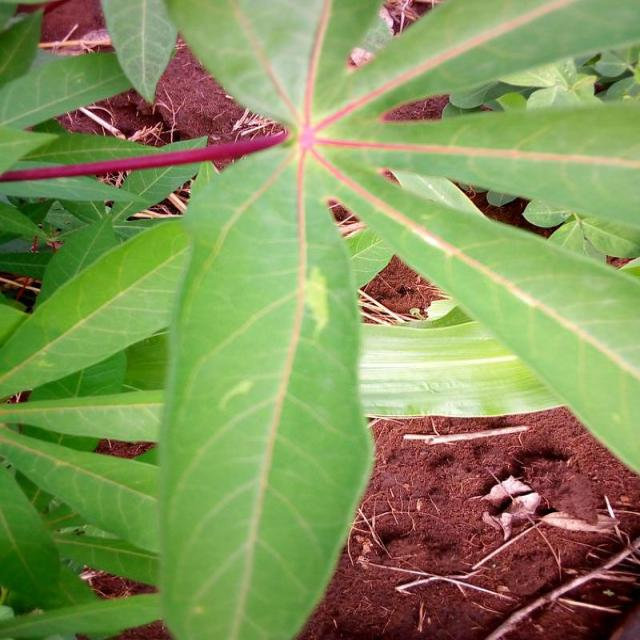cassava leaf: (1, 0, 638, 638), (156, 140, 376, 638)
